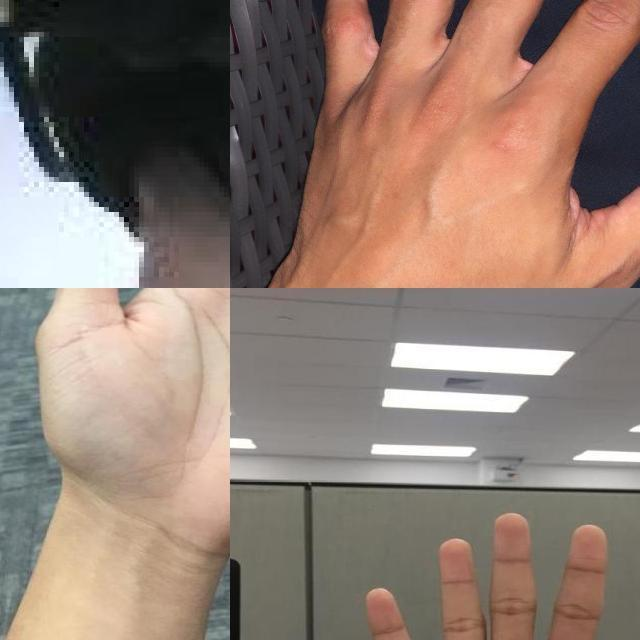no-gloves: (239, 0, 640, 288), (34, 288, 230, 536), (361, 509, 640, 640)
